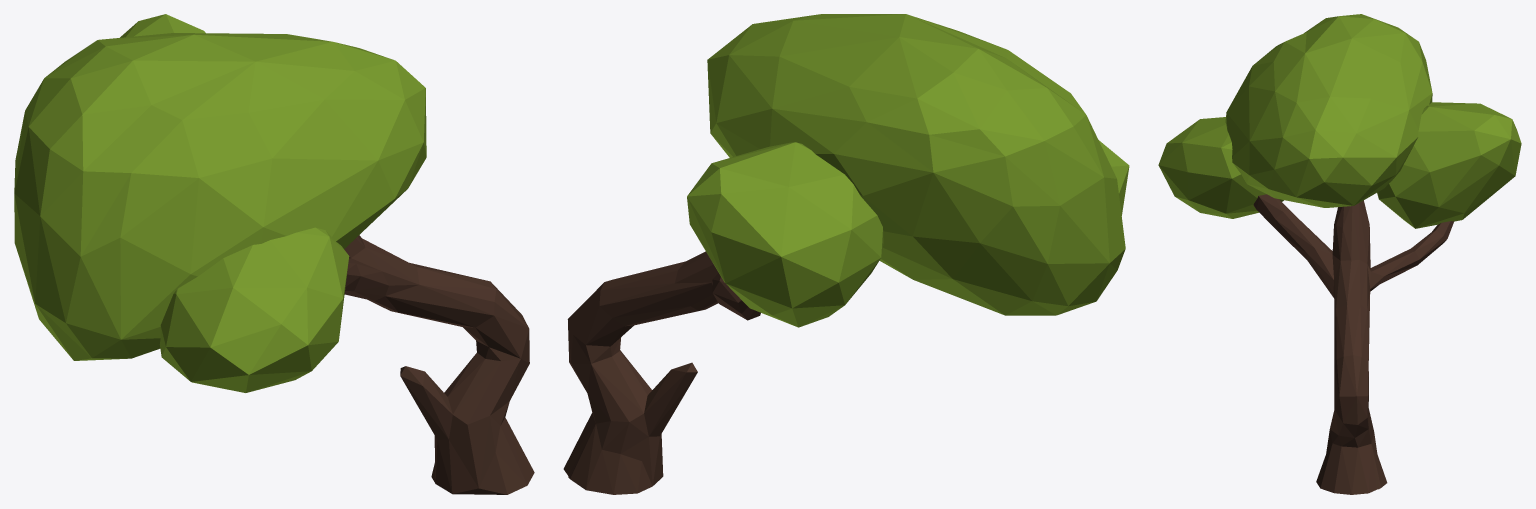
File: SM_tree_greek_04.fbx
3 renders of one model, left to right at view 1: azimuth 30°, elevation 25°; view 2: azimuth 150°, elevation 25°; view 3: azimuth 270°, elevation 25°, orthographic. The views are drawn at different scales.
Visible parts, largest first — view 1: Group29588; view 2: Group29588; view 3: Group29588.
Part boxes in pixels (left/top/right/bottom): Group29588: left=14, top=14, right=534, bottom=494; Group29588: left=563, top=14, right=1129, bottom=494; Group29588: left=1158, top=14, right=1521, bottom=494.
Size of the model in its own units: 235 by 222 by 209.
